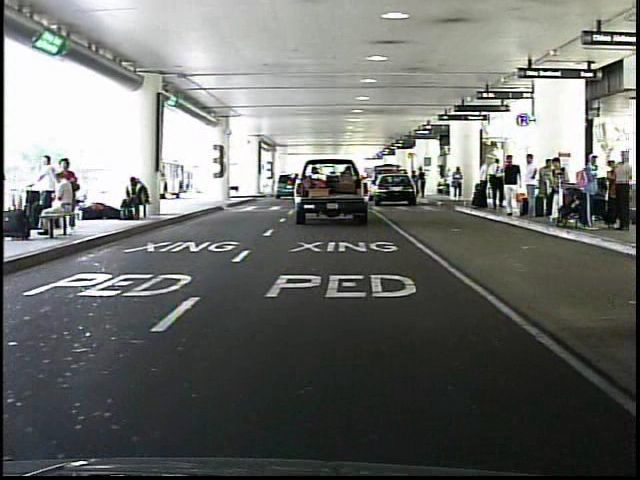person: (520, 151, 543, 221), (501, 153, 524, 219), (471, 153, 493, 214), (450, 165, 466, 203), (417, 165, 429, 201), (411, 167, 420, 200)
